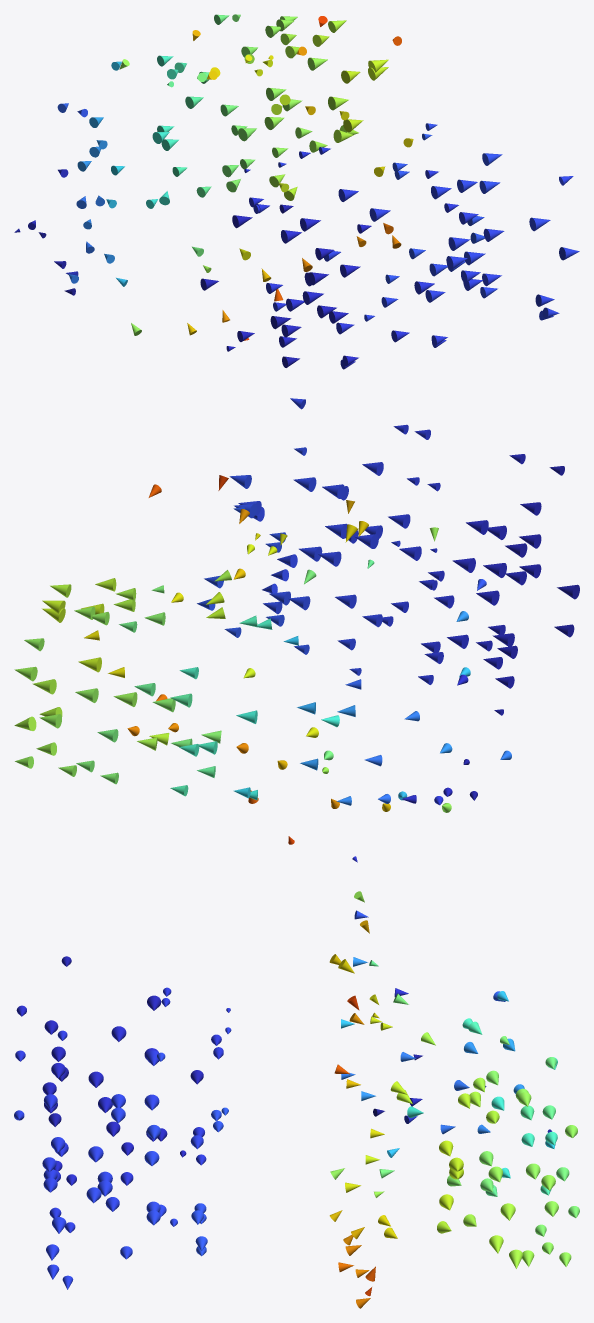
The model's file is LineasCorrienteN2-H2O_mh2-5.58_V-0.9.glb.
The picture shows the model from 3 angles, top to bottom: view 1: azimuth 30°, elevation 25°; view 2: azimuth 150°, elevation 25°; view 3: azimuth 270°, elevation 25°; orthographic projection. The views are drawn at different scales.
Size of the model in its own units: 0.000984 by 0.000809 by 0.00119.
Materials: 2 (2 with a texture image).
